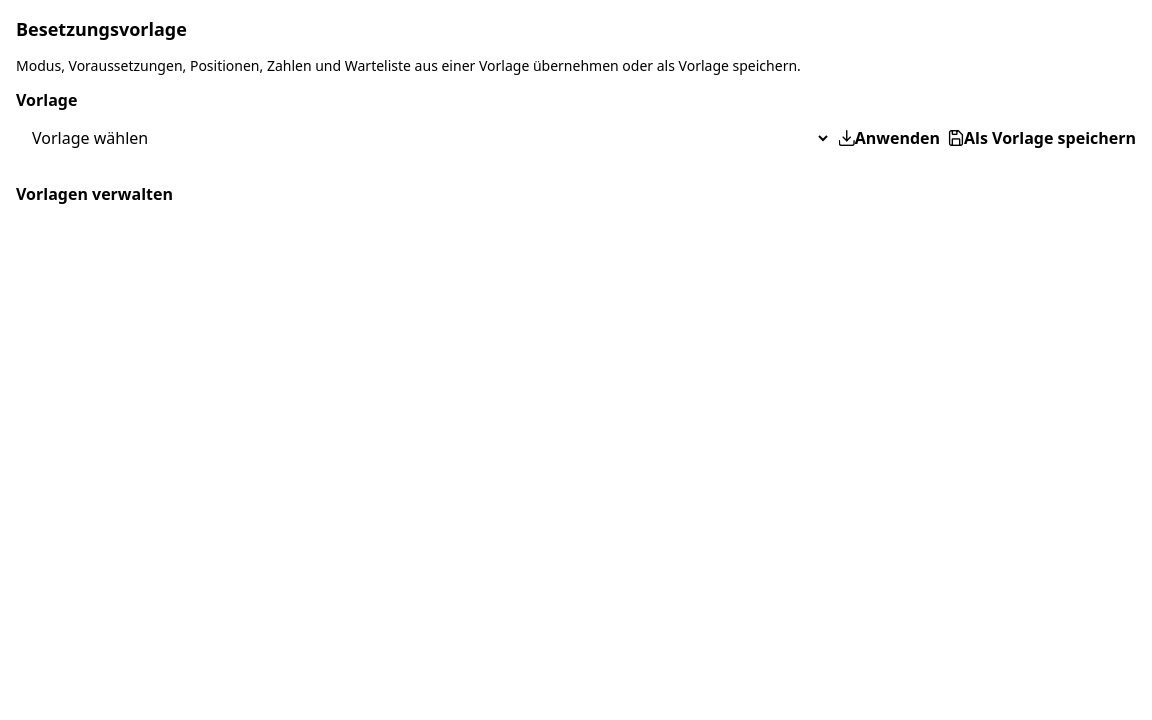
Test: StaffingTemplatePanel › applies a template after confirmation and shows warnings and the source
Select "Brandsicherheitswache" in the dropdown with id "tpl-select": point(423, 138) top-left (16, 116), bottom-right (831, 160)
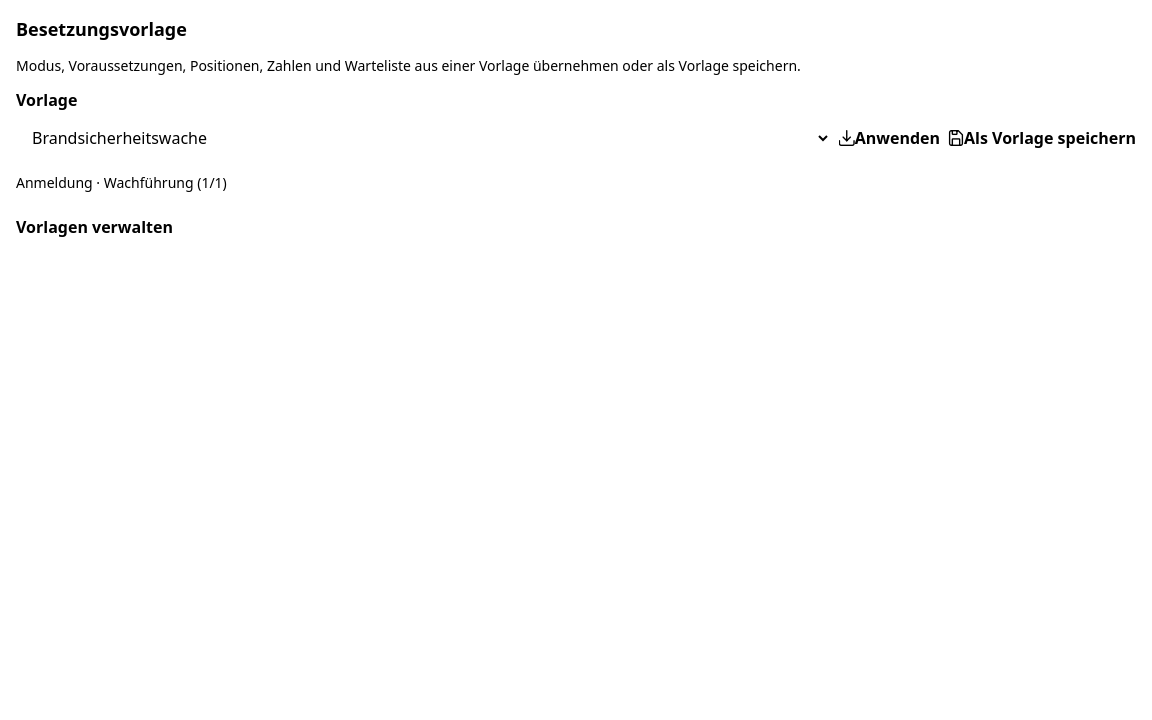
Now the text "Wachführung (1/1)" is shown, box top-left (93, 173), bottom-right (227, 192)
Click the button "Anwenden": point(889, 138) top-left (839, 116), bottom-right (940, 160)
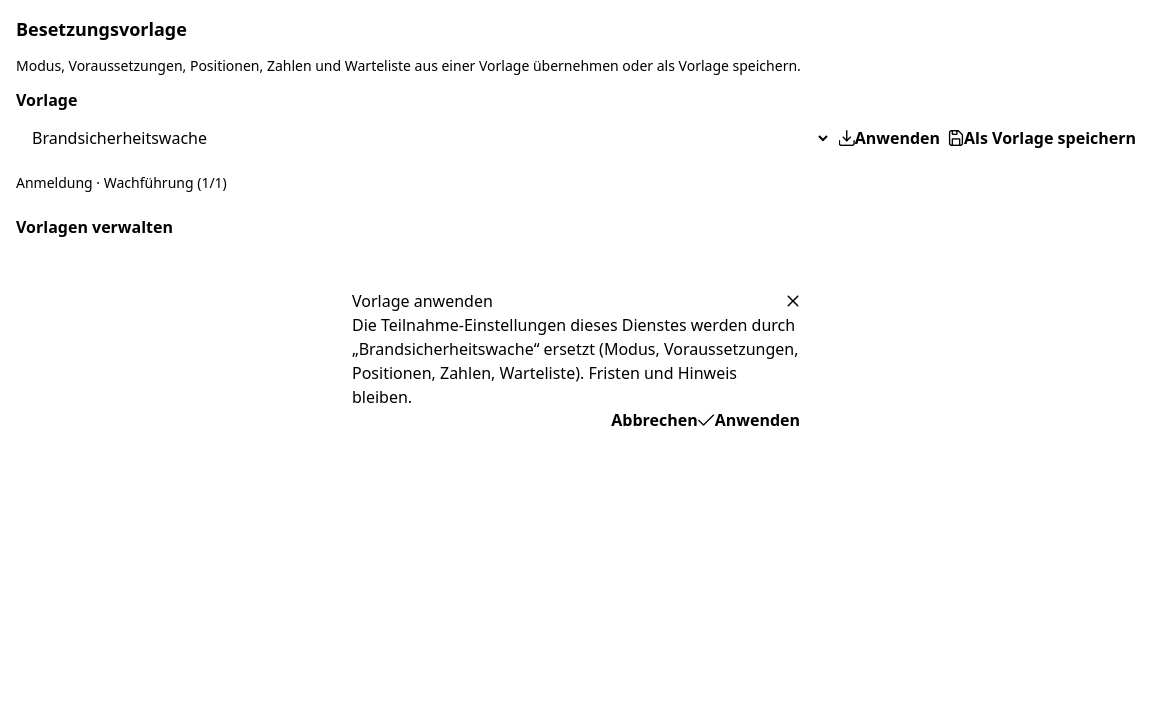
Click the button "Anwenden": point(749, 420) top-left (698, 409), bottom-right (800, 431)
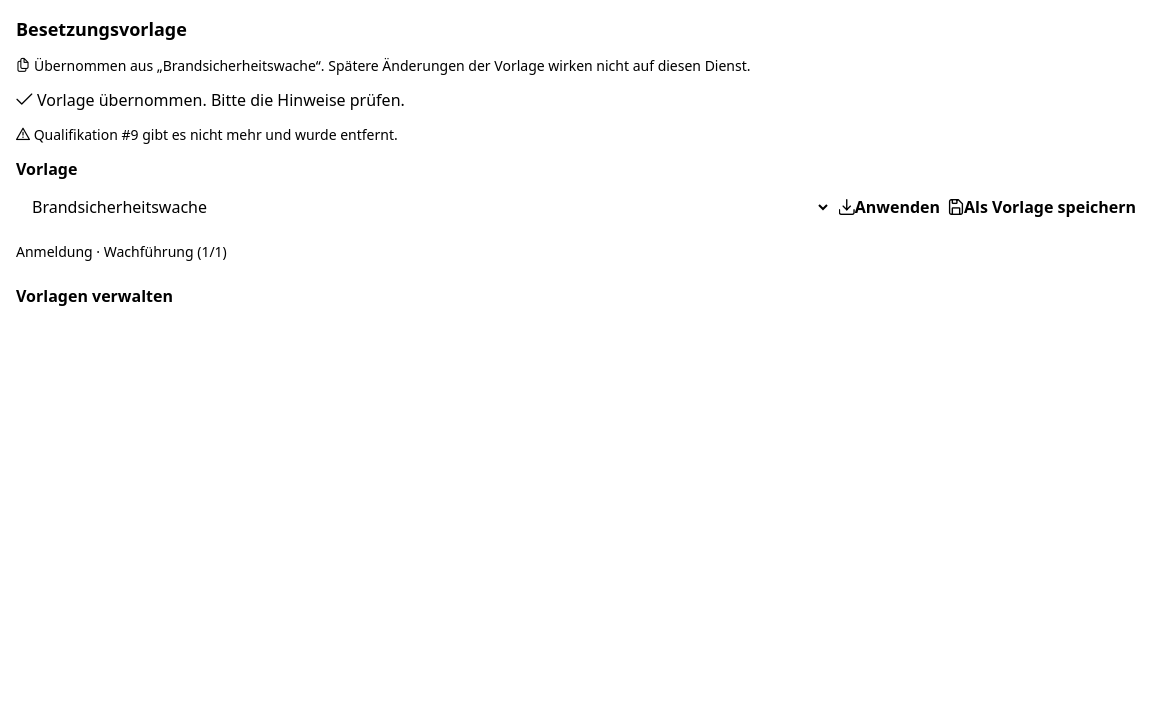
Now the text "gibt es nicht mehr" is shown, box top-left (30, 125), bottom-right (398, 144)
Now the text "Übernommen aus „Brandsicherheitswache“" is shown, box top-left (34, 56), bottom-right (750, 75)
